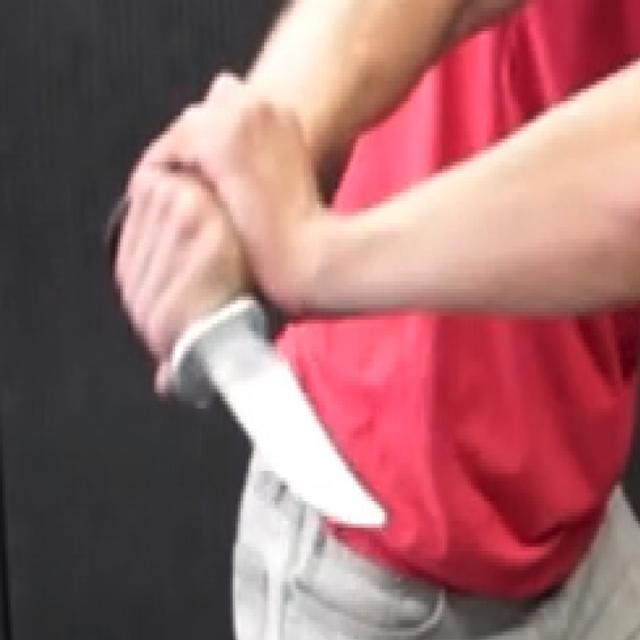suspicion: (110, 5, 398, 536), (170, 288, 390, 530)
